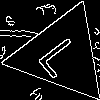L: (36, 29, 92, 80)
